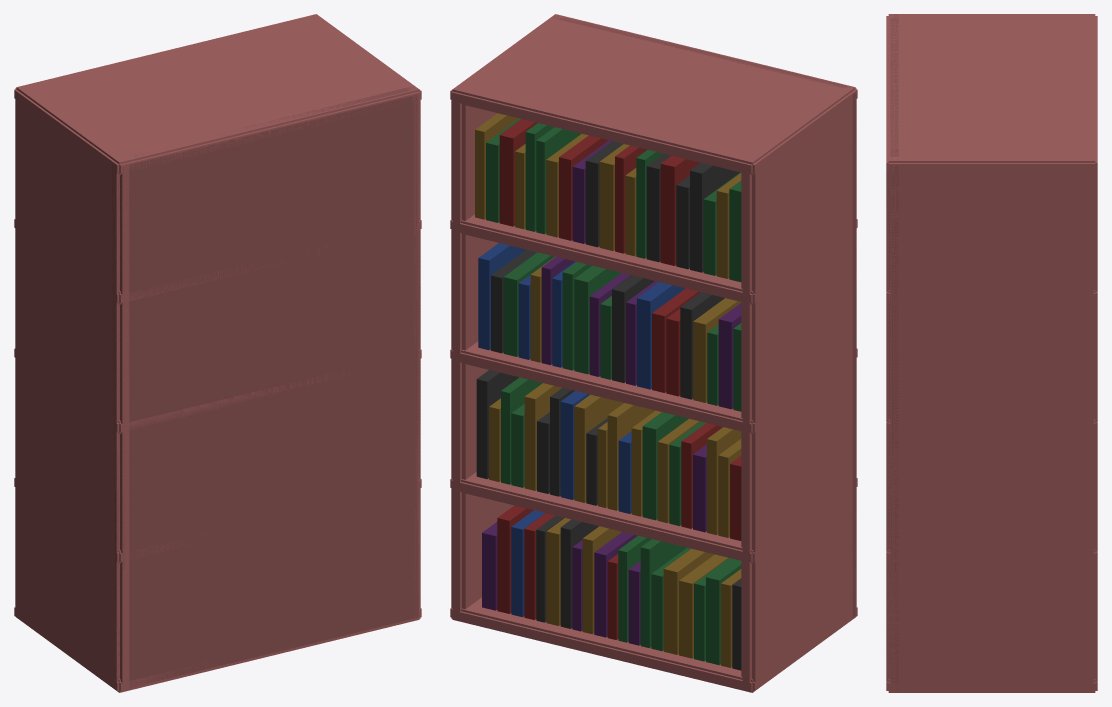
File: shadewood_bookcase_v0.glb
3 renders of one model, left to right at view 1: azimuth 30°, elevation 25°; view 2: azimuth 150°, elevation 25°; view 3: azimuth 270°, elevation 25°, orthographic.
Parts seen in each view (by area): view 1: shadewood_bookcase_v0; view 2: shadewood_bookcase_v0; view 3: shadewood_bookcase_v0.
Part boxes in pixels (x1,y1,x2,y2): shadewood_bookcase_v0: [14, 14, 421, 692]; shadewood_bookcase_v0: [450, 14, 857, 692]; shadewood_bookcase_v0: [886, 14, 1097, 692].
Bounding box in the file's own units: 1.5 × 2.5 × 0.9.
